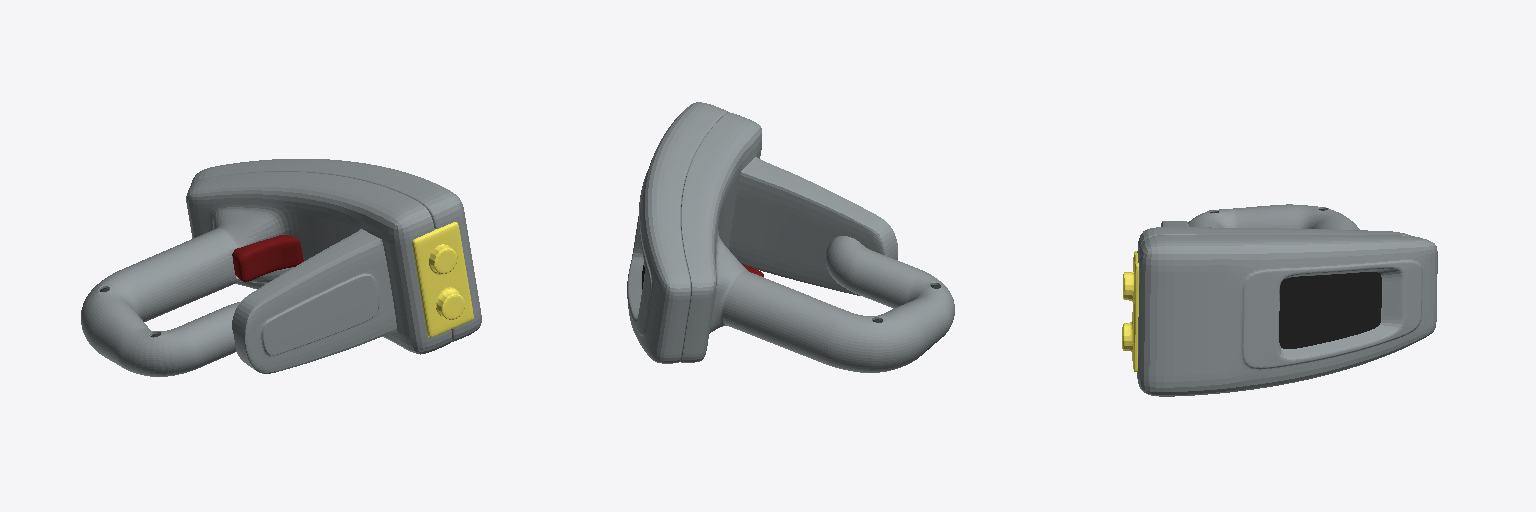
3 views of the same model, side by side, from view 1: azimuth 30°, elevation 25°; view 2: azimuth 150°, elevation 25°; view 3: azimuth 270°, elevation 25° (orthographic).
Parts seen in each view (by area): view 1: 金属探测仪; view 2: 金属探测仪; view 3: 金属探测仪.
Boxes of the visible parts, box(x1,y1,x2,y2) form: 金属探测仪: box(81, 159, 481, 376); 金属探测仪: box(627, 102, 954, 372); 金属探测仪: box(1122, 204, 1437, 396).
Bounding box in the file's own units: 1.66 × 0.7477 × 1.41.